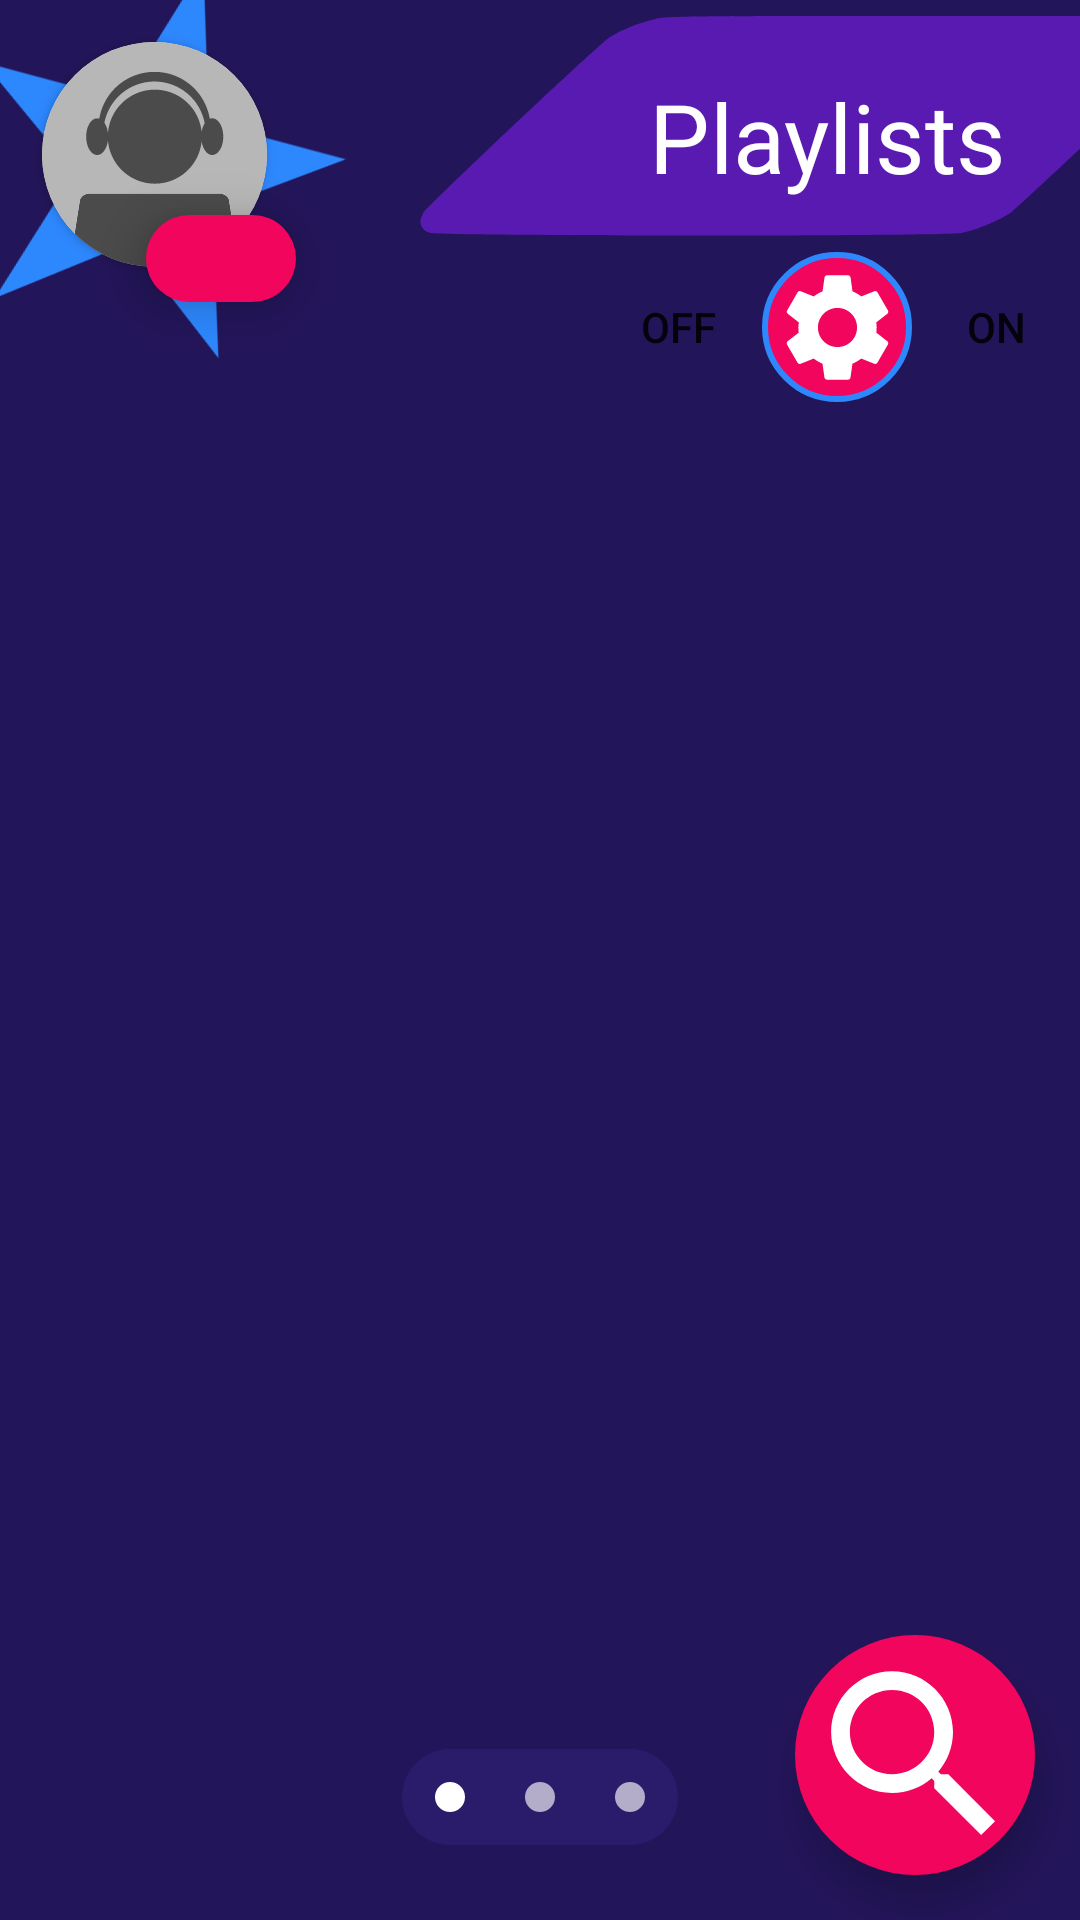

Where to tap for icons on this 1080 x 1920 app screen, as point (x, y):
search: point (915, 1755)
settings: point (837, 327)
